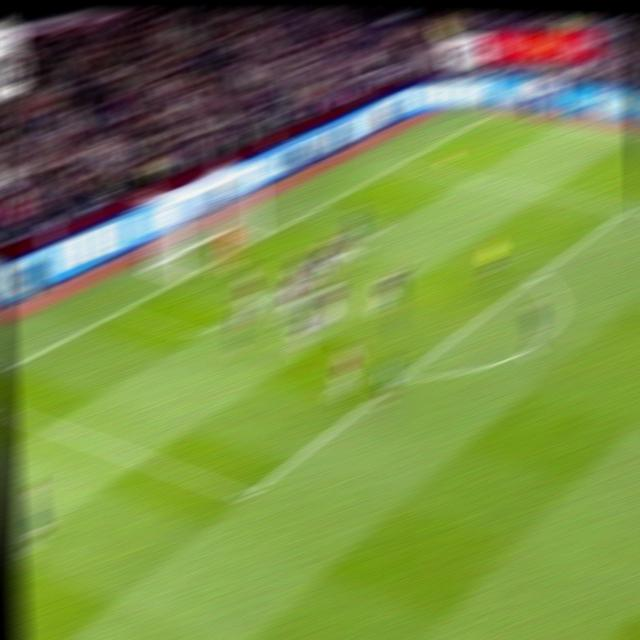bigarea_bottom_inner: (232, 482, 260, 511)
bigarea_top_inner: (617, 200, 640, 215)
bigarea_top_outter: (390, 160, 408, 169)
bottom_arc_area_intersection: (392, 369, 412, 385)
corner: (481, 111, 503, 118)
smallarea_bottom_inner: (187, 325, 212, 346)
smallarea_bottom_outter: (108, 303, 131, 318)
smallarea_top_inner: (371, 223, 391, 235)
smallarea_top_outter: (300, 206, 321, 217)
top_arc_area_intersection: (528, 271, 546, 281)
